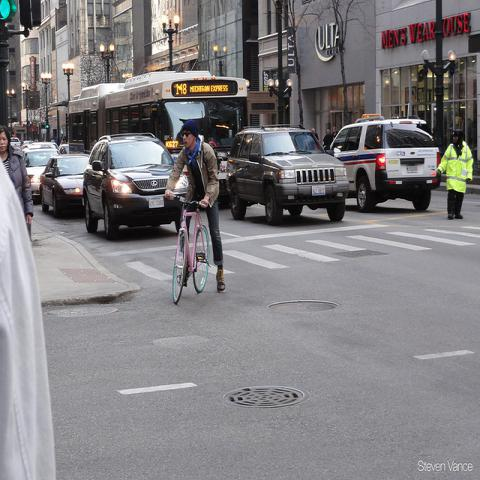bus: (69, 74, 247, 182)
car: (226, 125, 350, 226), (329, 114, 441, 213), (82, 133, 187, 238), (38, 153, 90, 217), (24, 147, 59, 196), (9, 136, 22, 152)
